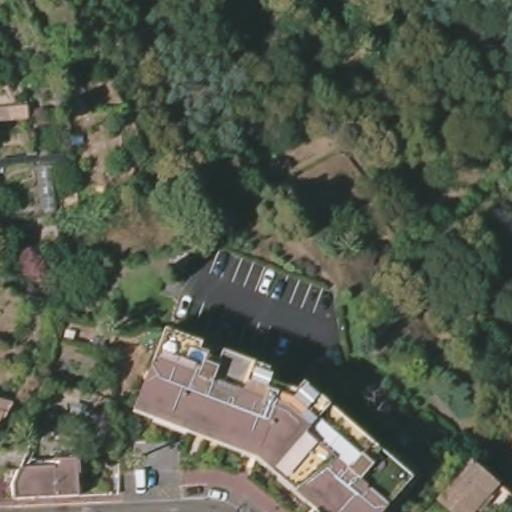pool: (184, 345, 206, 363)
